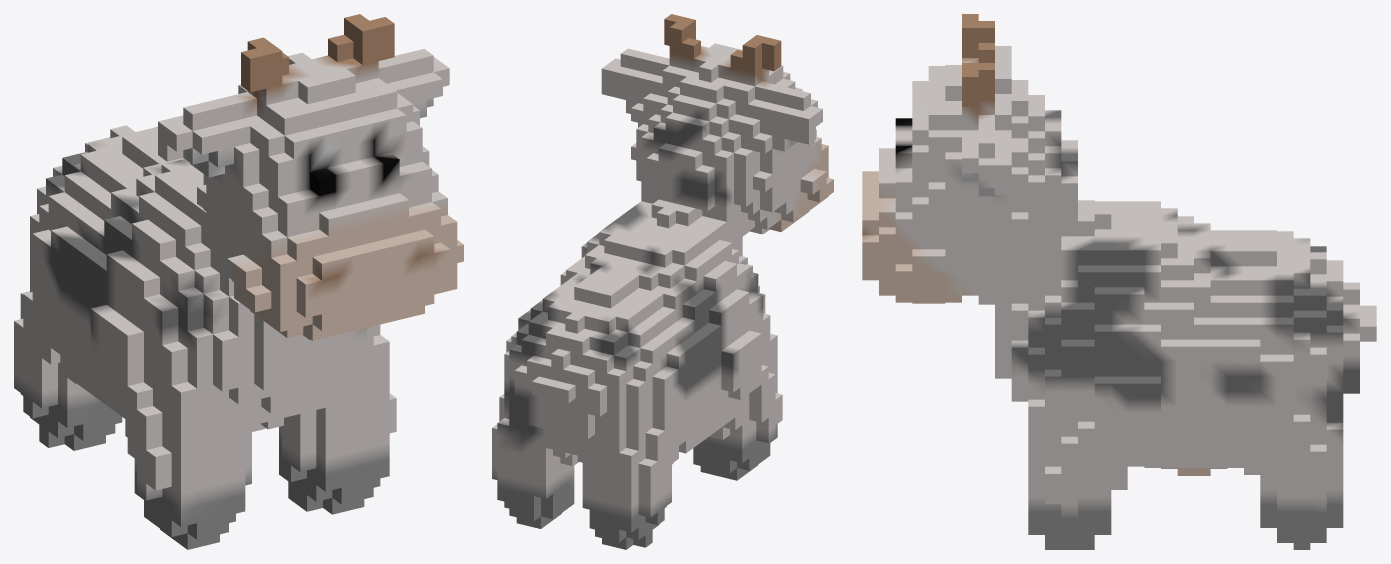
File: voxel_spot_32x.glb
3 renders of one model, left to right at view 1: azimuth 30°, elevation 25°; view 2: azimuth 150°, elevation 25°; view 3: azimuth 270°, elevation 25°, orthographic. The views are drawn at different scales.
Parts seen in each view (by area): view 1: TargetSpot; view 2: TargetSpot; view 3: TargetSpot.
Part boxes in pixels (box(x1,y1,x2,y2)): TargetSpot: box(14, 14, 463, 549); TargetSpot: box(492, 14, 833, 549); TargetSpot: box(862, 14, 1376, 549).
Size of the model in its own units: 0.5366 by 0.9785 by 0.9785.
